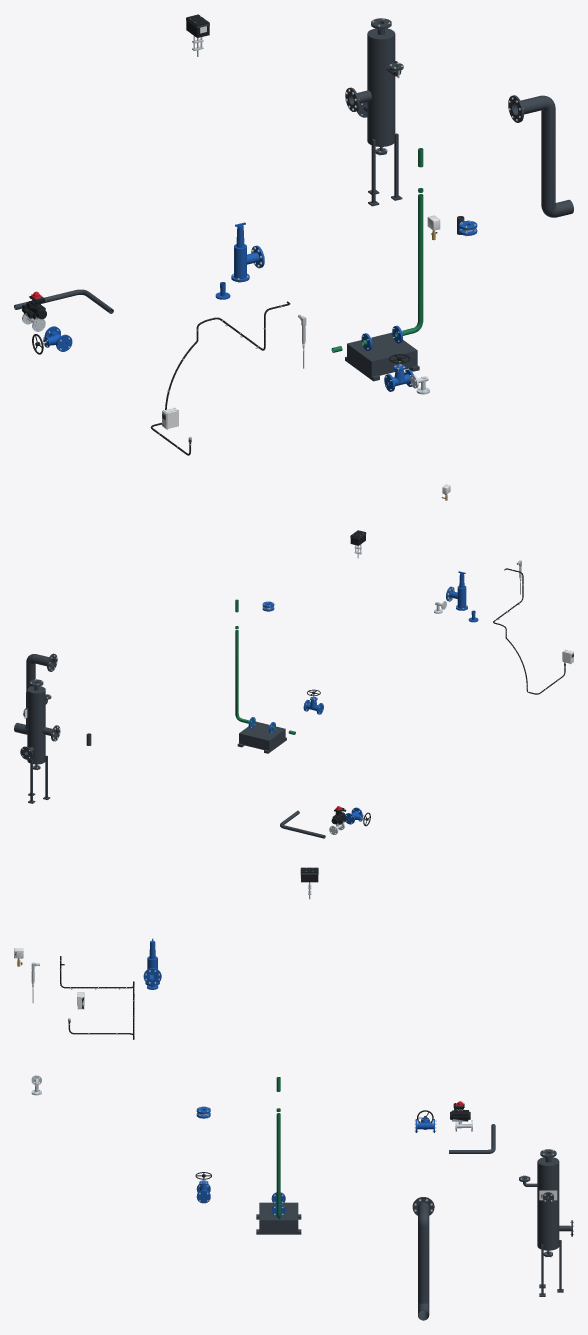
Rendered from s4000-6-g9nDehL5.glb.
3 views of the same model, one above another, from view 1: azimuth 30°, elevation 25°; view 2: azimuth 150°, elevation 25°; view 3: azimuth 270°, elevation 25° (orthographic). The views are drawn at different scales.
Parts seen in each view (by area): view 1: separator_fv8 / dark, bdv_water_drain / dark, pump_branch_2 / dark, pump_branch_2 / green, safety_2 / blue, wiring_high_level / black, bcv7432 / bcv7432_0.npz, drain_isolation_1 / drain_isolation_1_0.npz; view 2: separator_fv8 / dark, pump_branch_2 / dark, bdv_water_drain / dark, pump_branch_2 / green, safety_2 / blue; view 3: separator_fv8 / dark, bdv_water_drain / dark, pump_branch_2 / dark, pump_branch_2 / green.
Part boxes in pixels (x1,y1,x2,y2): separator_fv8 / dark: [345, 18, 403, 206]; bdv_water_drain / dark: [508, 95, 573, 217]; pump_branch_2 / dark: [345, 332, 419, 381]; pump_branch_2 / green: [331, 148, 423, 352]; safety_2 / blue: [231, 222, 264, 282]; wiring_high_level / black: [150, 301, 290, 455]; bcv7432 / bcv7432_0.npz: [22, 291, 46, 331]; drain_isolation_1 / drain_isolation_1_0.npz: [32, 326, 72, 354]; separator_fv8 / dark: [20, 679, 60, 803]; pump_branch_2 / dark: [237, 721, 286, 753]; bdv_water_drain / dark: [14, 653, 57, 734]; pump_branch_2 / green: [235, 599, 295, 734]; safety_2 / blue: [446, 571, 467, 610]; separator_fv8 / dark: [519, 1149, 572, 1296]; bdv_water_drain / dark: [412, 1197, 434, 1320]; pump_branch_2 / dark: [256, 1202, 301, 1234]; pump_branch_2 / green: [276, 1077, 280, 1218].
Size of the model in its own units: 5.68 by 3.24 by 5.61.
